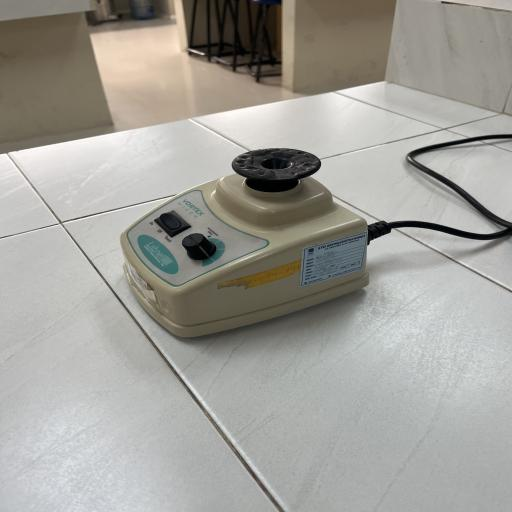Vortex_Mixer_LabNet: (106, 132, 392, 350)
